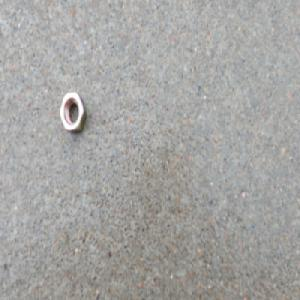Nut: (59, 90, 86, 134)
